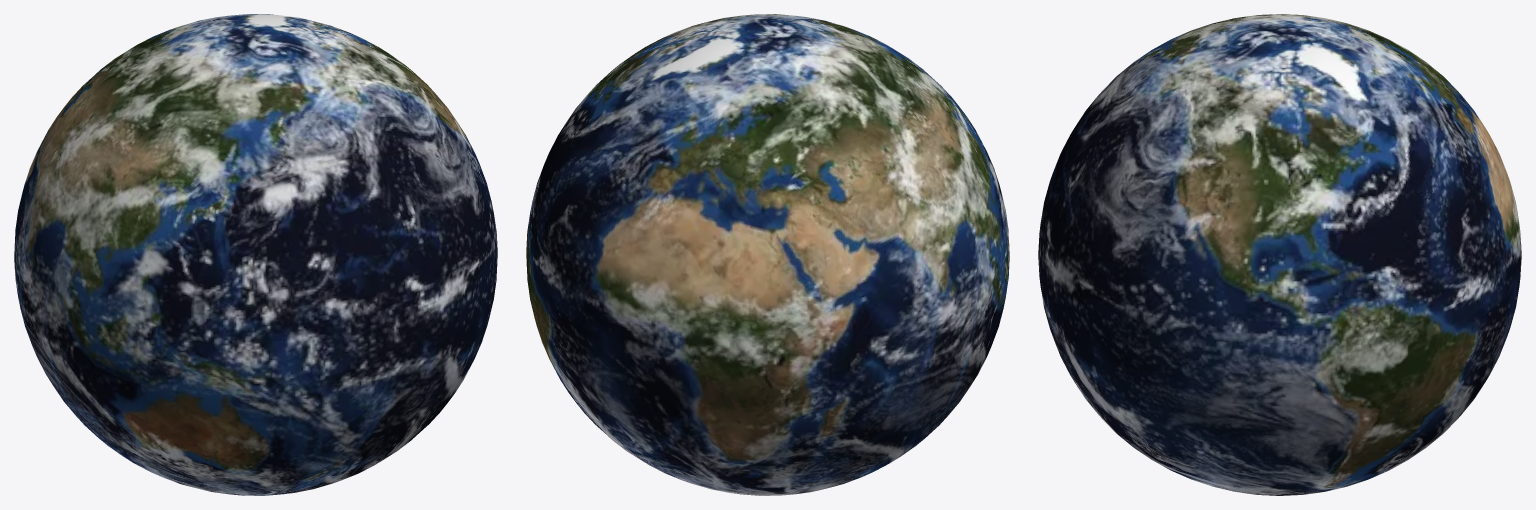
Rendered from earth.glb.
3 views of the same model, side by side, from view 1: azimuth 30°, elevation 25°; view 2: azimuth 150°, elevation 25°; view 3: azimuth 270°, elevation 25° (orthographic).
Visible parts, largest first — view 1: Cube.001; view 2: Cube.001; view 3: Cube.001.
Boxes of the visible parts, x1,y1,x2,y2 form: Cube.001: (14, 14, 497, 495); Cube.001: (526, 14, 1009, 495); Cube.001: (1038, 14, 1521, 495).
Bounding box in the file's own units: 1000 × 997 × 1000.
1 material, 1 textured.
